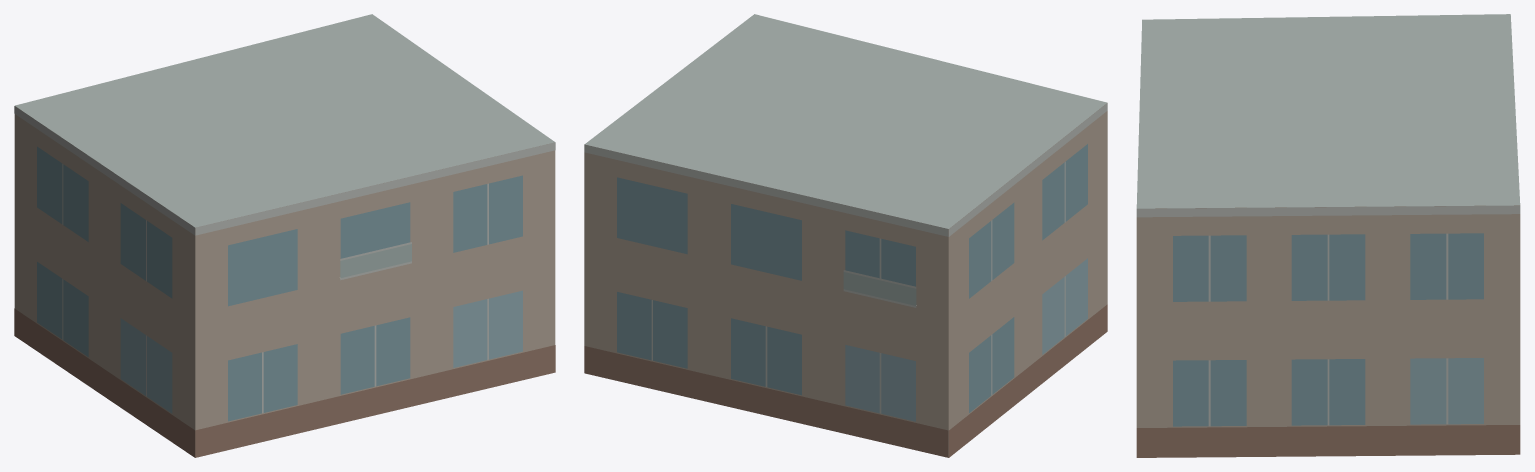
Rendered from survey-upis-32501035.glb.
The picture shows the model from 3 angles, left to right: view 1: azimuth 30°, elevation 25°; view 2: azimuth 150°, elevation 25°; view 3: azimuth 270°, elevation 25°; orthographic projection. The views are drawn at different scales.
Parts seen in each view (by area): view 1: survey-upis-32501035.tmp; view 2: survey-upis-32501035.tmp; view 3: survey-upis-32501035.tmp.
Boxes of the visible parts, box(x1,y1,x2,y2) form: survey-upis-32501035.tmp: box(14, 14, 555, 457); survey-upis-32501035.tmp: box(584, 14, 1107, 457); survey-upis-32501035.tmp: box(1136, 14, 1520, 457).
Bounding box in the file's own units: 11.73 × 7 × 9.78.
